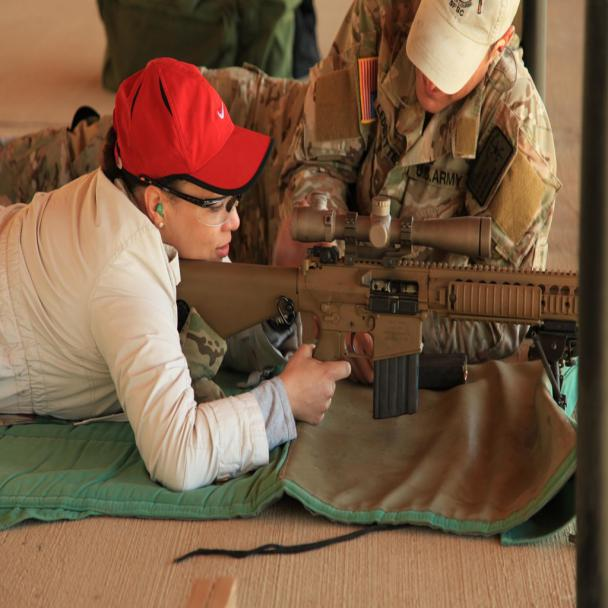Gun: (165, 195, 607, 416)
Hand: (274, 327, 357, 443)
